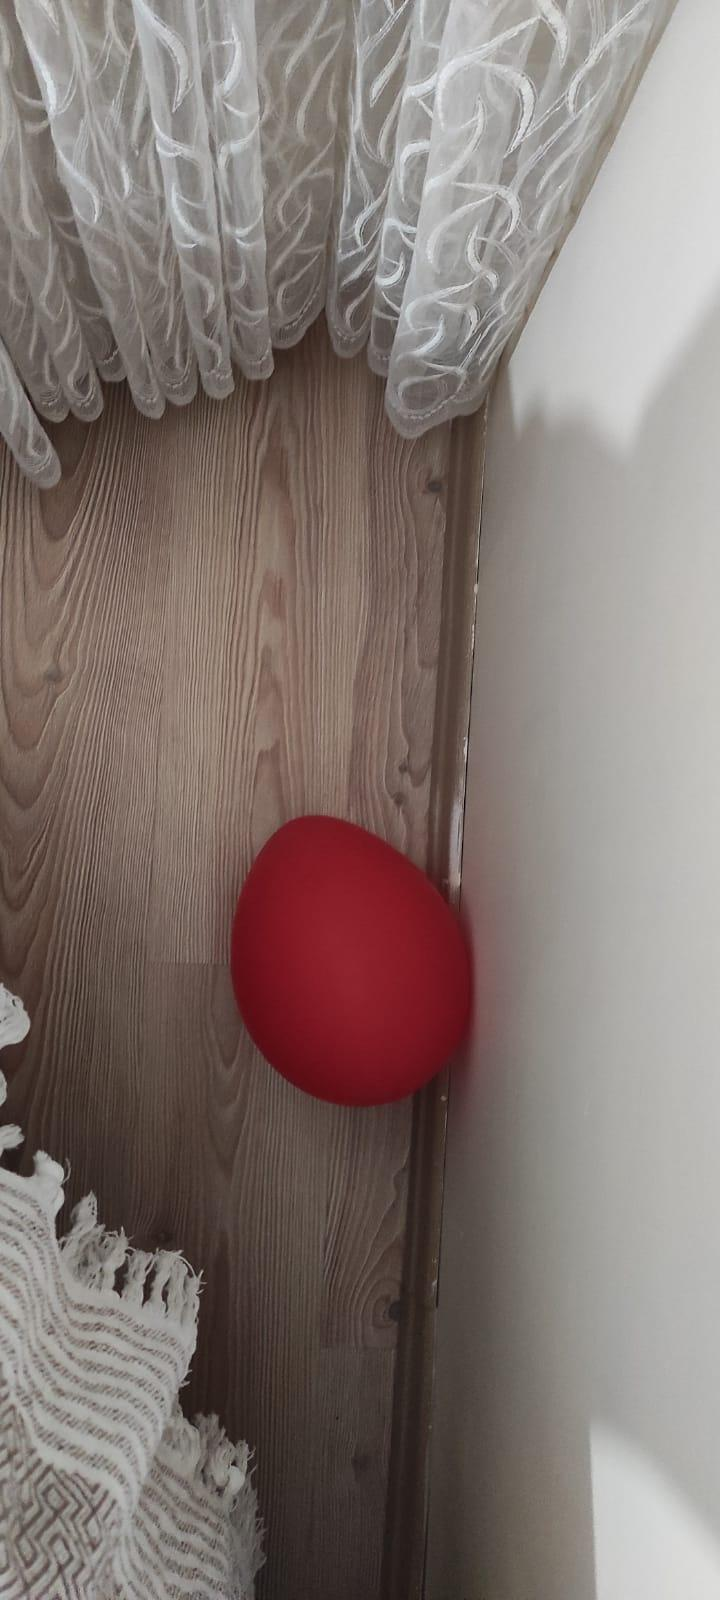red: (219, 807, 477, 1105)
